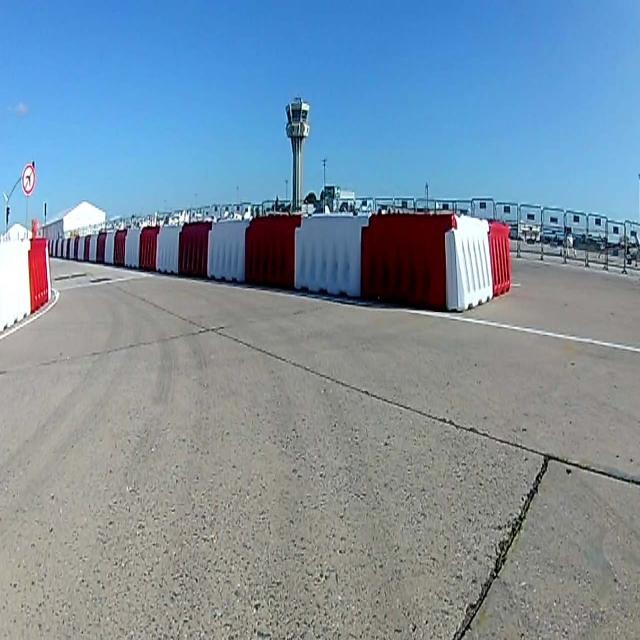soladonulmez: (22, 162, 36, 198)
